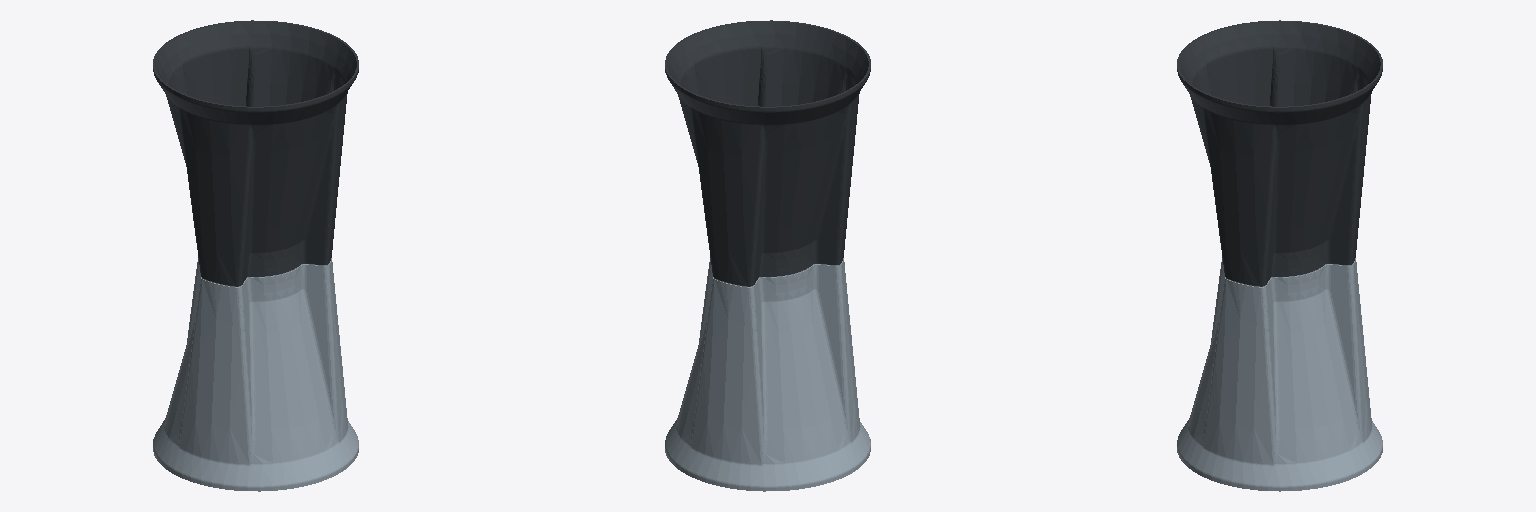
URDF robot description (override_dual_cup):
<?xml version='1.0' encoding='utf-8'?>
<robot name="override_dual_cup">
  <link name="cup">
    <inertial>
      <origin xyz="0 0 .08225" />
      <mass value="0.075" />
      <inertia ixx="0.00019" iyy="0.00019" izz="9e-05" ixy="0" ixz="0" iyz="0" />
    </inertial>
    <visual>
      <geometry>
        <mesh filename="../meshes/override/cup_upper.obj" />
      </geometry>
      <material name=".._meshes_override_cup_upper.obj">
        <color rgba=".27 .29 .31 1" />
      </material>
    </visual>
    <visual>
      <geometry>
        <mesh filename="../meshes/override/cup_lower.obj" />
      </geometry>
      <material name=".._meshes_override_cup_lower.obj">
        <color rgba=".63 .68 .72 .42" />
      </material>
    </visual>
    <collision>
      <geometry>
        <mesh filename="cup_hull_-1_0_0.stl" />
      </geometry>
    </collision>
    <collision>
      <geometry>
        <mesh filename="cup_hull_-1_0_1.stl" />
      </geometry>
    </collision>
    <collision>
      <geometry>
        <mesh filename="cup_hull_-1_0_2.stl" />
      </geometry>
    </collision>
    <collision>
      <geometry>
        <mesh filename="cup_hull_-1_0_3.stl" />
      </geometry>
    </collision>
    <collision>
      <geometry>
        <mesh filename="cup_hull_-1_0_4.stl" />
      </geometry>
    </collision>
    <collision>
      <geometry>
        <mesh filename="cup_hull_-1_0_5.stl" />
      </geometry>
    </collision>
    <collision>
      <geometry>
        <mesh filename="cup_hull_-1_0_6.stl" />
      </geometry>
    </collision>
    <collision>
      <geometry>
        <mesh filename="cup_hull_-1_0_7.stl" />
      </geometry>
    </collision>
    <collision>
      <geometry>
        <mesh filename="cup_hull_-1_0_8.stl" />
      </geometry>
    </collision>
    <collision>
      <geometry>
        <mesh filename="cup_hull_-1_0_9.stl" />
      </geometry>
    </collision>
    <collision>
      <geometry>
        <mesh filename="cup_hull_-1_0_10.stl" />
      </geometry>
    </collision>
    <collision>
      <geometry>
        <mesh filename="cup_hull_-1_0_11.stl" />
      </geometry>
    </collision>
    <collision>
      <geometry>
        <mesh filename="cup_hull_-1_0_12.stl" />
      </geometry>
    </collision>
    <collision>
      <geometry>
        <mesh filename="cup_hull_-1_0_13.stl" />
      </geometry>
    </collision>
    <collision>
      <geometry>
        <mesh filename="cup_hull_-1_0_14.stl" />
      </geometry>
    </collision>
    <collision>
      <geometry>
        <mesh filename="cup_hull_-1_0_15.stl" />
      </geometry>
    </collision>
    <collision>
      <geometry>
        <mesh filename="cup_hull_-1_1_0.stl" />
      </geometry>
    </collision>
    <collision>
      <geometry>
        <mesh filename="cup_hull_-1_1_1.stl" />
      </geometry>
    </collision>
    <collision>
      <geometry>
        <mesh filename="cup_hull_-1_1_2.stl" />
      </geometry>
    </collision>
    <collision>
      <geometry>
        <mesh filename="cup_hull_-1_1_3.stl" />
      </geometry>
    </collision>
    <collision>
      <geometry>
        <mesh filename="cup_hull_-1_1_4.stl" />
      </geometry>
    </collision>
    <collision>
      <geometry>
        <mesh filename="cup_hull_-1_1_5.stl" />
      </geometry>
    </collision>
    <collision>
      <geometry>
        <mesh filename="cup_hull_-1_1_6.stl" />
      </geometry>
    </collision>
    <collision>
      <geometry>
        <mesh filename="cup_hull_-1_1_7.stl" />
      </geometry>
    </collision>
    <collision>
      <geometry>
        <mesh filename="cup_hull_-1_1_8.stl" />
      </geometry>
    </collision>
    <collision>
      <geometry>
        <mesh filename="cup_hull_-1_1_9.stl" />
      </geometry>
    </collision>
    <collision>
      <geometry>
        <mesh filename="cup_hull_-1_1_10.stl" />
      </geometry>
    </collision>
    <collision>
      <geometry>
        <mesh filename="cup_hull_-1_1_11.stl" />
      </geometry>
    </collision>
    <collision>
      <geometry>
        <mesh filename="cup_hull_-1_1_12.stl" />
      </geometry>
    </collision>
    <collision>
      <geometry>
        <mesh filename="cup_hull_-1_1_13.stl" />
      </geometry>
    </collision>
    <collision>
      <geometry>
        <mesh filename="cup_hull_-1_1_14.stl" />
      </geometry>
    </collision>
    <collision>
      <geometry>
        <mesh filename="cup_hull_-1_1_15.stl" />
      </geometry>
    </collision>
    <collision>
      <geometry>
        <mesh filename="cup_hull_1_0_0.stl" />
      </geometry>
    </collision>
    <collision>
      <geometry>
        <mesh filename="cup_hull_1_0_1.stl" />
      </geometry>
    </collision>
    <collision>
      <geometry>
        <mesh filename="cup_hull_1_0_2.stl" />
      </geometry>
    </collision>
    <collision>
      <geometry>
        <mesh filename="cup_hull_1_0_3.stl" />
      </geometry>
    </collision>
    <collision>
      <geometry>
        <mesh filename="cup_hull_1_0_4.stl" />
      </geometry>
    </collision>
    <collision>
      <geometry>
        <mesh filename="cup_hull_1_0_5.stl" />
      </geometry>
    </collision>
    <collision>
      <geometry>
        <mesh filename="cup_hull_1_0_6.stl" />
      </geometry>
    </collision>
    <collision>
      <geometry>
        <mesh filename="cup_hull_1_0_7.stl" />
      </geometry>
    </collision>
    <collision>
      <geometry>
        <mesh filename="cup_hull_1_0_8.stl" />
      </geometry>
    </collision>
    <collision>
      <geometry>
        <mesh filename="cup_hull_1_0_9.stl" />
      </geometry>
    </collision>
    <collision>
      <geometry>
        <mesh filename="cup_hull_1_0_10.stl" />
      </geometry>
    </collision>
    <collision>
      <geometry>
        <mesh filename="cup_hull_1_0_11.stl" />
      </geometry>
    </collision>
    <collision>
      <geometry>
        <mesh filename="cup_hull_1_0_12.stl" />
      </geometry>
    </collision>
    <collision>
      <geometry>
        <mesh filename="cup_hull_1_0_13.stl" />
      </geometry>
    </collision>
    <collision>
      <geometry>
        <mesh filename="cup_hull_1_0_14.stl" />
      </geometry>
    </collision>
    <collision>
      <geometry>
        <mesh filename="cup_hull_1_0_15.stl" />
      </geometry>
    </collision>
    <collision>
      <geometry>
        <mesh filename="cup_hull_1_1_0.stl" />
      </geometry>
    </collision>
    <collision>
      <geometry>
        <mesh filename="cup_hull_1_1_1.stl" />
      </geometry>
    </collision>
    <collision>
      <geometry>
        <mesh filename="cup_hull_1_1_2.stl" />
      </geometry>
    </collision>
    <collision>
      <geometry>
        <mesh filename="cup_hull_1_1_3.stl" />
      </geometry>
    </collision>
    <collision>
      <geometry>
        <mesh filename="cup_hull_1_1_4.stl" />
      </geometry>
    </collision>
    <collision>
      <geometry>
        <mesh filename="cup_hull_1_1_5.stl" />
      </geometry>
    </collision>
    <collision>
      <geometry>
        <mesh filename="cup_hull_1_1_6.stl" />
      </geometry>
    </collision>
    <collision>
      <geometry>
        <mesh filename="cup_hull_1_1_7.stl" />
      </geometry>
    </collision>
    <collision>
      <geometry>
        <mesh filename="cup_hull_1_1_8.stl" />
      </geometry>
    </collision>
    <collision>
      <geometry>
        <mesh filename="cup_hull_1_1_9.stl" />
      </geometry>
    </collision>
    <collision>
      <geometry>
        <mesh filename="cup_hull_1_1_10.stl" />
      </geometry>
    </collision>
    <collision>
      <geometry>
        <mesh filename="cup_hull_1_1_11.stl" />
      </geometry>
    </collision>
    <collision>
      <geometry>
        <mesh filename="cup_hull_1_1_12.stl" />
      </geometry>
    </collision>
    <collision>
      <geometry>
        <mesh filename="cup_hull_1_1_13.stl" />
      </geometry>
    </collision>
    <collision>
      <geometry>
        <mesh filename="cup_hull_1_1_14.stl" />
      </geometry>
    </collision>
    <collision>
      <geometry>
        <mesh filename="cup_hull_1_1_15.stl" />
      </geometry>
    </collision>
  </link>
</robot>

--- Render facts (derived) ---
The picture shows the robot from 3 angles, left to right: view 1: azimuth 30°, elevation 25°; view 2: azimuth 150°, elevation 25°; view 3: azimuth 270°, elevation 25°; orthographic projection.
Model override_dual_cup with 1 links and 0 joints (none), rooted at cup, posed all joints at 0.
Links seen in each view (by area): view 1: cup; view 2: cup; view 3: cup.
Link boxes in pixels (x1,y1,x2,y2): cup: (153, 20, 358, 491); cup: (665, 20, 870, 491); cup: (1177, 20, 1382, 491).
Bounding box of the posed robot: 0.0802 × 0.0802 × 0.1645 m (x, y, z).
Meshes: 2 distinct files referenced, 2 mesh visuals loaded (2 OBJ).
